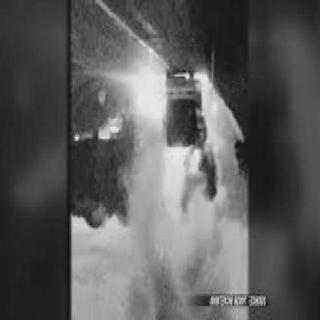Fire: (116, 68, 232, 240)
Smoke: (120, 256, 240, 320)
